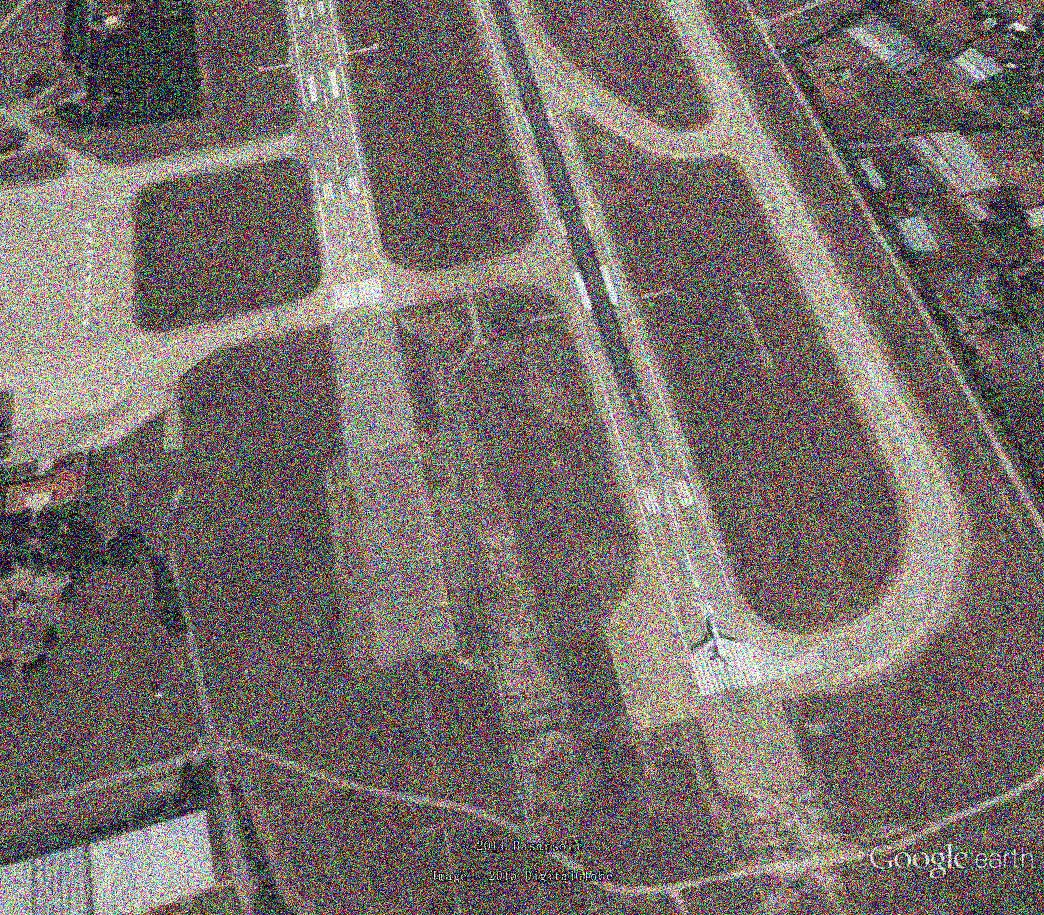aircraft: (690, 618, 748, 678)
